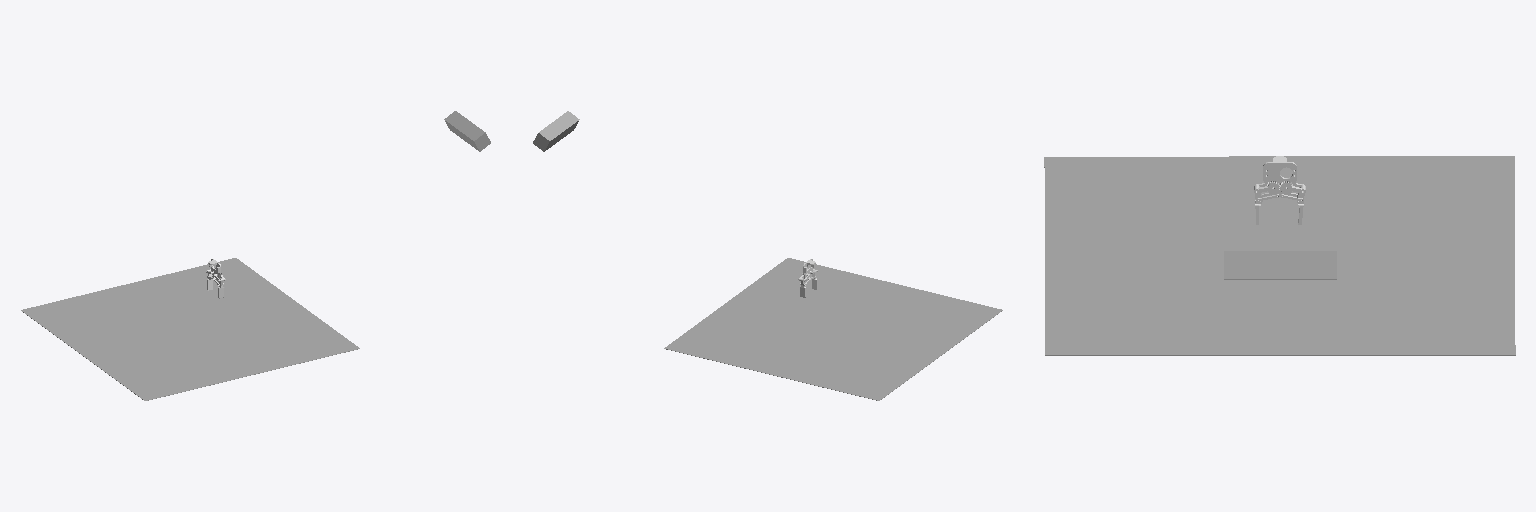
robot.urdf — motoman_motomini:
<?xml version="1.0" encoding="utf-8"?>
<!-- =================================================================================== -->
<!-- |    This document was autogenerated by xacro from motomini.xacro                 | -->
<!-- |    EDITING THIS FILE BY HAND IS NOT RECOMMENDED                                 | -->
<!-- =================================================================================== -->
<robot name="motoman_motomini">
  <!-- Properties -->
  <material name="yaskawa_blue">
    <color rgba="0.12941 0.14902 0.74902 1"/>
  </material>
  <!-- World frame -->
  <link name="world"/>
  <!-- Adding table to the world -->
  <link name="table">
    <origin rpy="0 0 0" xyz="0.0 0.0 0"/>
    <inertial>
      <mass value="5"/>
      <origin xyz="0 0 0"/>
      <inertia ixx="1" ixy="0.0" ixz="0.0" iyy="1" iyz="0.0" izz="1"/>
    </inertial>
    <visual>
      <geometry>
        <box size="0.83 0.830 0.001"/>
      </geometry>
      <material name="light_grey">
        <color rgba="0.7 0.7 0.7 1.0"/>
      </material>
    </visual>
    <collision>
      <geometry>
        <box size="0.83 0.830 0.001"/>
      </geometry>
    </collision>
  </link>
  <!-- link list -->
  <link name="base_link">
    <visual>
      <geometry>
        <mesh filename="package://motoman_motomini_support/meshes/motomini/visual/base_link.stl"/>
      </geometry>
      <material name="yaskawa_blue"/>
    </visual>
    <collision>
      <geometry>
        <mesh filename="package://motoman_motomini_support/meshes/motomini/collision/base_link.stl"/>
      </geometry>
    </collision>
  </link>
  <link name="link_1_s">
    <visual>
      <geometry>
        <mesh filename="package://motoman_motomini_support/meshes/motomini/visual/link_1_s.stl"/>
      </geometry>
      <material name="yaskawa_blue"/>
    </visual>
    <collision>
      <geometry>
        <mesh filename="package://motoman_motomini_support/meshes/motomini/collision/link_1_s.stl"/>
      </geometry>
    </collision>
  </link>
  <link name="link_2_l">
    <visual>
      <geometry>
        <mesh filename="package://motoman_motomini_support/meshes/motomini/visual/link_2_l.stl"/>
      </geometry>
      <material name="yaskawa_blue"/>
    </visual>
    <collision>
      <geometry>
        <mesh filename="package://motoman_motomini_support/meshes/motomini/collision/link_2_l.stl"/>
      </geometry>
    </collision>
  </link>
  <link name="link_3_u">
    <visual>
      <geometry>
        <mesh filename="package://motoman_motomini_support/meshes/motomini/visual/link_3_u.stl"/>
      </geometry>
      <material name="yaskawa_blue"/>
    </visual>
    <collision>
      <geometry>
        <mesh filename="package://motoman_motomini_support/meshes/motomini/collision/link_3_u.stl"/>
      </geometry>
    </collision>
  </link>
  <link name="link_4_r">
    <visual>
      <geometry>
        <mesh filename="package://motoman_motomini_support/meshes/motomini/visual/link_4_r.stl"/>
      </geometry>
      <material name="yaskawa_blue"/>
    </visual>
    <collision>
      <geometry>
        <mesh filename="package://motoman_motomini_support/meshes/motomini/collision/link_4_r.stl"/>
      </geometry>
    </collision>
  </link>
  <link name="link_5_b">
    <visual>
      <geometry>
        <mesh filename="package://motoman_motomini_support/meshes/motomini/visual/link_5_b.stl"/>
      </geometry>
      <material name="yaskawa_blue"/>
    </visual>
    <collision>
      <geometry>
        <mesh filename="package://motoman_motomini_support/meshes/motomini/collision/link_5_b.stl"/>
      </geometry>
    </collision>
  </link>
  <link name="link_6_t">
    <visual>
      <geometry>
        <mesh filename="package://motoman_motomini_support/meshes/motomini/visual/link_6_t.stl"/>
      </geometry>
      <material name="yaskawa_blue"/>
    </visual>
    <collision>
      <geometry>
        <mesh filename="package://motoman_motomini_support/meshes/motomini/collision/link_6_t.stl"/>
      </geometry>
    </collision>
  </link>
  <link name="tool0"/>
  <link name="tool_tip"/>
  <!-- end of link list -->
  <!-- Kinect link -->
  <material name="black">
    <color rgba="0. 0. 0. 1"/>
  </material>
  <material name="dark_grey">
    <color rgba="0.1 0.1 0.1 1"/>
  </material>
  <material name="grey">
    <color rgba="0.6 0.6 0.6 1"/>
  </material>
  <material name="white">
    <color rgba="0.9 0.9 0.9 1"/>
  </material>
  <link name="camera_link">
    <visual>
      <origin rpy="0 0 0" xyz="0 0 0"/>
      <geometry>
        <box size="0.05 0.2 0.05"/>
      </geometry>
      <material name="light_grey">
        <color rgba="0.7 0.7 0.7 1.0"/>
      </material>
    </visual>
    <collision>
      <origin rpy="0 0 0" xyz="0 0 0"/>
      <geometry>
        <box size="0.05 0.2 0.05"/>
      </geometry>
    </collision>
  </link>
  <!--link name="kinect2_rgb_optical_frame" >
</link-->
  <joint name="camera_joint" type="fixed">
    <parent link="base_link"/>
    <child link="camera_link"/>
    <origin rpy="0 0.4712 -3.14159265359" xyz="1.17 0 0.48"/>
  </joint>
  <!--0.865joint name="camera_optical_joint" type="fixed">  0.4712 ${{-M_PI/2}-0.4712}
    <origin xyz="0 0 0" rpy="${-M_PI/2} 0 ${-M_PI/2}" />
    <parent link="kinect2_link" />
    <child link="kinect2_rgb_optical_frame" />
</joint-->
  <!-- joint list -->
  <joint name="world_joint" type="fixed">
    <parent link="world"/>
    <child link="table"/>
    <origin rpy="0.0 0.0 -1.57" xyz="0.0 0.0 0"/>
  </joint>
  <joint name="table_joint" type="fixed">
    <parent link="table"/>
    <child link="base_link"/>
    <origin rpy="0.0 0.0 1.57079632679" xyz="0 -0.1015 0.0"/>
  </joint>
  <joint name="joint_1_s" type="revolute">
    <parent link="base_link"/>
    <child link="link_1_s"/>
    <origin rpy="0 0 0" xyz="0 0 0.103"/>
    <axis xyz="0 0 1"/>
    <limit effort="0.12" lower="-2.9670" upper="2.9670" velocity="5.4977"/>
  </joint>
  <joint name="joint_2_l" type="revolute">
    <parent link="link_1_s"/>
    <child link="link_2_l"/>
    <origin rpy="0 0 0" xyz="0.020 0 0"/>
    <axis xyz="0 1 0"/>
    <limit effort="0.12" lower="-1.4835" upper="1.5707" velocity="5.4977"/>
  </joint>
  <joint name="joint_3_u" type="revolute">
    <parent link="link_2_l"/>
    <child link="link_3_u"/>
    <origin rpy="0 0 0" xyz="0 0 0.165"/>
    <axis xyz="0 -1 0"/>
    <limit effort="0.12" lower="-0.8726" upper="1.5707" velocity="7.3304"/>
  </joint>
  <joint name="joint_4_r" type="revolute">
    <parent link="link_3_u"/>
    <child link="link_4_r"/>
    <origin rpy="0 0 0" xyz="0.165 0 0"/>
    <axis xyz="-1 0 0"/>
    <limit effort="0.07" lower="-2.4434" upper="2.4434" velocity="10.4719"/>
  </joint>
  <joint name="joint_5_b" type="revolute">
    <parent link="link_4_r"/>
    <child link="link_5_b"/>
    <origin rpy="0 0 0" xyz="0 0 0"/>
    <axis xyz="0 -1 0"/>
    <limit effort="0.07" lower="-0.5235" upper="3.6651" velocity="10.4719"/>
  </joint>
  <joint name="joint_6_t" type="revolute">
    <parent link="link_5_b"/>
    <child link="link_6_t"/>
    <origin rpy="0 0 0" xyz="0 0 0"/>
    <axis xyz="0 0 1"/>
    <limit effort="0.07" lower="-6.2831" upper="6.2831" velocity="10.4719"/>
  </joint>
  <joint name="joint_6_t-tool0" type="fixed">
    <origin rpy="3.14159265359 0 0" xyz="0 0 -0.040 "/>
    <parent link="link_6_t"/>
    <child link="tool0"/>
  </joint>
  <joint name="gripper_tip" type="fixed">
    <origin rpy="3.14159265359 -1.57079632679 0" xyz="0.012 0 0.115 "/>
    <parent link="tool0"/>
    <child link="tool_tip"/>
  </joint>
  <!-- end of joint list -->
  <!-- ROS base_link to Robot Manufacturer World Coordinates transform -->
  <link name="base"/>
  <joint name="base_link-base" type="fixed">
    <origin rpy="0 0 0" xyz="0 0 0.103"/>
    <parent link="base_link"/>
    <child link="base"/>
  </joint>
  <link name="gripper_base">
    <visual>
      <geometry>
        <mesh filename="package://motoman_motomini_support/meshes/gripper/base.stl"/>
      </geometry>
      <material name="white"/>
    </visual>
    <collision>
      <geometry>
        <mesh filename="package://motoman_motomini_support/meshes/gripper/base.stl"/>
      </geometry>
    </collision>
  </link>
  <link name="claw_1a">
    <visual>
      <geometry>
        <mesh filename="package://motoman_motomini_support/meshes/gripper/claw_1.stl"/>
      </geometry>
      <material name="white"/>
    </visual>
    <collision>
      <geometry>
        <mesh filename="package://motoman_motomini_support/meshes/gripper/claw_1.stl"/>
      </geometry>
    </collision>
  </link>
  <link name="claw_1b">
    <visual>
      <geometry>
        <mesh filename="package://motoman_motomini_support/meshes/gripper/claw_1.stl"/>
      </geometry>
      <material name="white"/>
    </visual>
    <collision>
      <geometry>
        <mesh filename="package://motoman_motomini_support/meshes/gripper/claw_1.stl"/>
      </geometry>
    </collision>
  </link>
  <link name="claw_2a">
    <visual>
      <geometry>
        <mesh filename="package://motoman_motomini_support/meshes/gripper/claw_2.stl"/>
      </geometry>
      <material name="white"/>
    </visual>
    <collision>
      <geometry>
        <mesh filename="package://motoman_motomini_support/meshes/gripper/claw_2.stl"/>
      </geometry>
    </collision>
  </link>
  <link name="claw_2b">
    <visual>
      <geometry>
        <mesh filename="package://motoman_motomini_support/meshes/gripper/claw_2.stl"/>
      </geometry>
      <material name="white"/>
    </visual>
    <collision>
      <geometry>
        <mesh filename="package://motoman_motomini_support/meshes/gripper/claw_2.stl"/>
      </geometry>
    </collision>
  </link>
  <link name="link_1a">
    <visual>
      <geometry>
        <mesh filename="package://motoman_motomini_support/meshes/gripper/link_1.stl"/>
      </geometry>
      <material name="white"/>
    </visual>
    <collision>
      <geometry>
        <mesh filename="package://motoman_motomini_support/meshes/gripper/link_1.stl"/>
      </geometry>
    </collision>
  </link>
  <link name="link_1b">
    <visual>
      <geometry>
        <mesh filename="package://motoman_motomini_support/meshes/gripper/link_1.stl"/>
      </geometry>
      <material name="white"/>
    </visual>
    <collision>
      <geometry>
        <mesh filename="package://motoman_motomini_support/meshes/gripper/link_1.stl"/>
      </geometry>
    </collision>
  </link>
  <link name="link_2a">
    <visual>
      <geometry>
        <mesh filename="package://motoman_motomini_support/meshes/gripper/link_2.stl"/>
      </geometry>
      <material name="white"/>
    </visual>
    <collision>
      <geometry>
        <mesh filename="package://motoman_motomini_support/meshes/gripper/link_2.stl"/>
      </geometry>
    </collision>
  </link>
  <link name="link_2b">
    <visual>
      <geometry>
        <mesh filename="package://motoman_motomini_support/meshes/gripper/link_2.stl"/>
      </geometry>
      <material name="white"/>
    </visual>
    <collision>
      <geometry>
        <mesh filename="package://motoman_motomini_support/meshes/gripper/link_2.stl"/>
      </geometry>
    </collision>
  </link>
  <link name="link_2c">
    <visual>
      <geometry>
        <mesh filename="package://motoman_motomini_support/meshes/gripper/link_2.stl"/>
      </geometry>
      <material name="white"/>
    </visual>
    <collision>
      <geometry>
        <mesh filename="package://motoman_motomini_support/meshes/gripper/link_2.stl"/>
      </geometry>
    </collision>
  </link>
  <link name="link_2d">
    <visual>
      <geometry>
        <mesh filename="package://motoman_motomini_support/meshes/gripper/link_2.stl"/>
      </geometry>
      <material name="white"/>
    </visual>
    <collision>
      <geometry>
        <mesh filename="package://motoman_motomini_support/meshes/gripper/link_2.stl"/>
      </geometry>
    </collision>
  </link>
  <joint name="gripper_joint" type="fixed">
    <parent link="tool0"/>
    <child link="gripper_base"/>
    <origin rpy="0 -1.5707 3.142" xyz="0 0 0"/>
    <!--<limit lower= "-3.0" upper= "3.0" effort="200" velocity="3" />
    <axis xyz = "0 0 1" />-->
  </joint>
  <joint name="claw_1b_joint" type="revolute">
    <parent link="gripper_base"/>
    <child link="claw_1b"/>
    <limit effort="200" lower="-3.0" upper="3.0" velocity="3"/>
    <axis xyz="0 0 1"/>
    <origin rpy="0.0 0.0 1.3386" xyz="0.045 0.01154 0.017503"/>
    <!-- 1.3386-->
  </joint>
  <joint name="claw_1a_joint" type="revolute">
    <parent link="gripper_base"/>
    <child link="claw_1a"/>
    <limit effort="200" lower="-3.0" upper="3.0" velocity="3"/>
    <axis xyz="0 0 1"/>
    <origin rpy="0.0 0.0 -1.3386" xyz="0.045 -0.01154 0.017503"/>
    <!-- -1.3386-->
    <mimic joint="claw_1b_joint" multiplier="-1"/>
  </joint>
  <joint name="claw_2a_joint" type="revolute">
    <parent link="claw_1a"/>
    <child link="claw_2a"/>
    <limit effort="200" lower="-3.0" upper="3.0" velocity="3"/>
    <axis xyz="0 0 1"/>
    <!--origin rpy="0.0 3.142 0" xyz="0.032 -0.011563 0.0050405"/-->
    <origin rpy="3.142 0 -1.6029994" xyz="0.03 0 -0.005"/>
    <mimic joint="claw_1b_joint" multiplier="-1"/>
  </joint>
  <joint name="claw_2b_joint" type="revolute">
    <parent link="claw_1b"/>
    <child link="claw_2b"/>
    <limit effort="200" lower="-3.0" upper="3.0" velocity="3"/>
    <axis xyz="0 0 1"/>
    <origin rpy="3.142 3.142 -1.6029994" xyz="0.03 0 -0.005"/>
    <mimic joint="claw_1b_joint" multiplier="-1"/>
  </joint>
  <joint name="link_1a_joint" type="revolute">
    <parent link="gripper_base"/>
    <child link="link_1a"/>
    <limit effort="200" lower="-3.0" upper="3.0" velocity="3"/>
    <axis xyz="0 0 1"/>
    <origin rpy="0.0 0.0 1.8033928" xyz="0.045 -0.01154 0.0044"/>
    <mimic joint="claw_1b_joint" multiplier="-1"/>
  </joint>
  <joint name="link_1b_joint" type="revolute">
    <parent link="gripper_base"/>
    <child link="link_1b"/>
    <limit effort="200" lower="-3.0" upper="3.0" velocity="3"/>
    <axis xyz="0 0 1"/>
    <origin rpy="0.0 0.0 -1.8033928" xyz="0.045 0.01154 0.0044"/>
    <mimic joint="claw_1b_joint" multiplier="1"/>
  </joint>
  <joint name="link_2a_joint" type="revolute">
    <parent link="gripper_base"/>
    <child link="link_2a"/>
    <limit effort="200" lower="-3.0" upper="3.0" velocity="3"/>
    <axis xyz="0 0 1"/>
    <origin rpy="0.0 0.0 1.8033928" xyz="0.062257 -0.0040985 0.02"/>
    <mimic joint="claw_1b_joint" multiplier="-1"/>
  </joint>
  <joint name="link_2b_joint" type="revolute">
    <parent link="gripper_base"/>
    <child link="link_2b"/>
    <limit effort="200" lower="-3.0" upper="3.0" velocity="3"/>
    <axis xyz="0 0 1"/>
    <origin rpy="0.0 0.0 -1.8033928" xyz="0.062257 0.0040985 0.02"/>
    <mimic joint="claw_1b_joint" multiplier="1"/>
  </joint>
  <joint name="link_2c_joint" type="revolute">
    <parent link="gripper_base"/>
    <child link="link_2c"/>
    <limit effort="200" lower="-3.0" upper="3.0" velocity="3"/>
    <axis xyz="0 0 1"/>
    <origin rpy="0.0 0.0 1.8033928" xyz="0.062257 -0.0040985 0.005"/>
    <mimic joint="claw_1b_joint" multiplier="-1"/>
  </joint>
  <joint name="link_2d_joint" type="revolute">
    <parent link="gripper_base"/>
    <child link="link_2d"/>
    <limit effort="200" lower="-3.0" upper="3.0" velocity="3"/>
    <axis xyz="0 0 1"/>
    <origin rpy="0.0 0.0 -1.8033928" xyz="0.062257 0.0040985 0.005"/>
    <mimic joint="claw_1b_joint" multiplier="1"/>
  </joint>
  <link name="realsense_link">
    <collision>
      <origin rpy="0 0 0" xyz="0.02 0 0"/>
      <geometry>
        <box size="0.001 0.001 0.001"/>
      </geometry>
    </collision>
    <visual>
      <origin rpy="1.5707 0 1.5707" xyz="0 0 0"/>
      <geometry>
        <mesh filename="package://ebot_description/meshes/NAVRS.STL"/>
      </geometry>
    </visual>
    <inertial>
      <mass value="1e-5"/>
      <origin rpy="0 0 0" xyz="0 0 0"/>
      <inertia ixx="0" ixy="0" ixz="0" iyy="0" iyz="0" izz="0"/>
    </inertial>
  </link>
  <joint name="realsense_joint" type="fixed">
    <parent link="gripper_base"/>
    <child link="realsense_link"/>
    <origin rpy="0 0 0" xyz="0.05 0 0.055"/>
    <!--<limit lower= "-3.0" upper= "3.0" effort="200" velocity="3" />
    <axis xyz = "0 0 1" />-->
  </joint>
  <!--joint name="camera_optical_joint2" type="fixed">
    <origin xyz="0 0 0" rpy="${-pi/2} 0 ${-pi/2}"/>
    <parent link="camera_link2"/>
    <child link="camera_rgb_frame2"/>
  </joint>

  <link name="camera_rgb_frame2">
  </link>

  <joint name="camera_depth_joint2" type="fixed">
    <origin xyz="0 0 0" rpy="${-pi/2} 0 ${-pi/2}"/>
    <parent link="camera_link2"/>
    <child link="camera_depth_frame2"/>
  </joint>

    <link name="camera_depth_frame2">
  </link-->
</robot>

--- Facts derived from the render (not from the file) ---
Views: 3 orthographic renders of the robot side by side, from view 1: azimuth 30°, elevation 25°; view 2: azimuth 150°, elevation 25°; view 3: azimuth 270°, elevation 25°.
Model motoman_motomini with 25 links and 24 joints (16 revolute, 8 fixed), rooted at world, posed every joint at zero.
Links seen in each view (by area): view 1: table, camera_link; view 2: table, camera_link; view 3: table, camera_link, gripper_base.
Boxes of the visible links, box(x1,y1,x2,y2) form: table: box(21, 258, 359, 400); camera_link: box(444, 111, 490, 151); table: box(664, 258, 1002, 400); camera_link: box(533, 111, 579, 151); table: box(1044, 156, 1515, 355); camera_link: box(1224, 251, 1336, 279); gripper_base: box(1263, 156, 1296, 196).
Bounding box of the posed robot: 1.52 × 0.8307 × 0.5141 m (x, y, z).
Meshes: 13 distinct files referenced, 11 mesh visuals loaded (5 binary STL); not drawn: 8 (reference not matched to a file when rendering).
